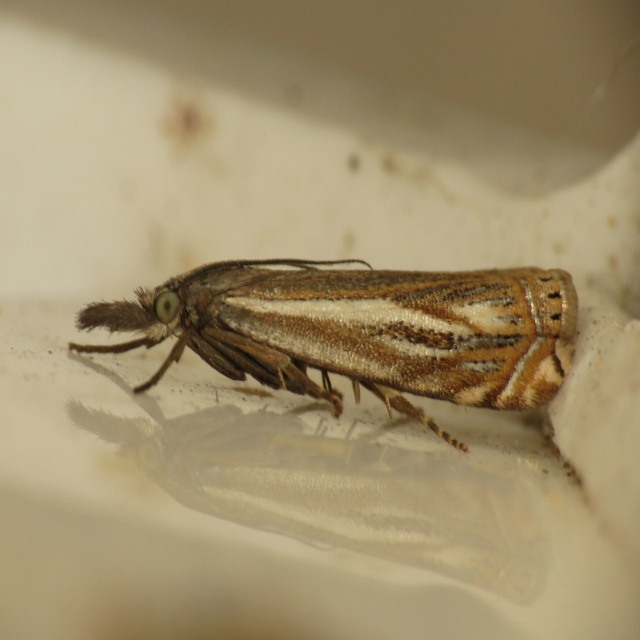Moths and butterflies: (67, 253, 578, 459)
